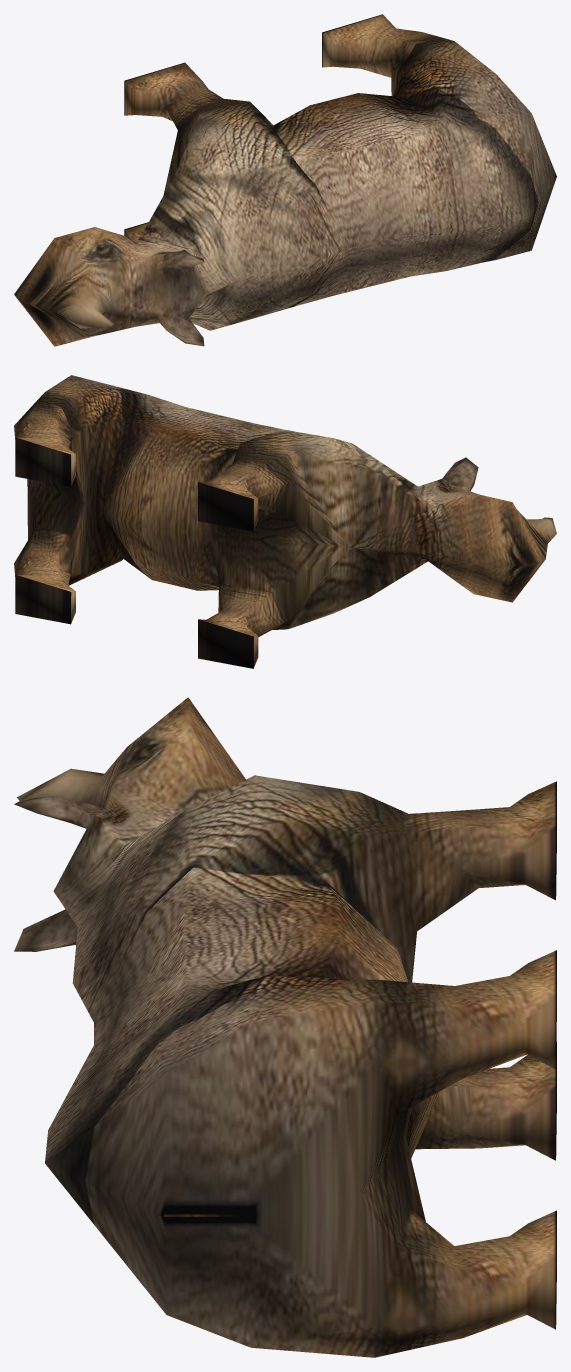
The model's file is rhino.fbx.
3 views of the same model, one above another, from view 1: azimuth 30°, elevation 25°; view 2: azimuth 150°, elevation 25°; view 3: azimuth 270°, elevation 25° (orthographic). The views are drawn at different scales.
Visible parts, largest first — view 1: object_Default; view 2: object_Default; view 3: object_Default.
Boxes of the visible parts, box(x1,y1,x2,y2) form: object_Default: box(14, 14, 556, 346); object_Default: box(14, 375, 556, 668); object_Default: box(14, 697, 556, 1357).
Size of the model in its own units: 14.29 by 5.24 by 7.24.
1 material, 1 textured.
